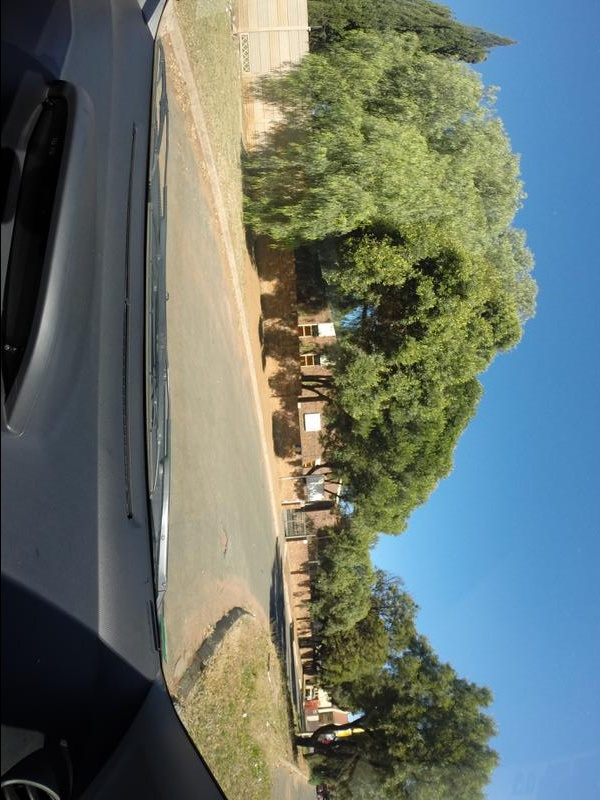pothole: (217, 525, 228, 562)
